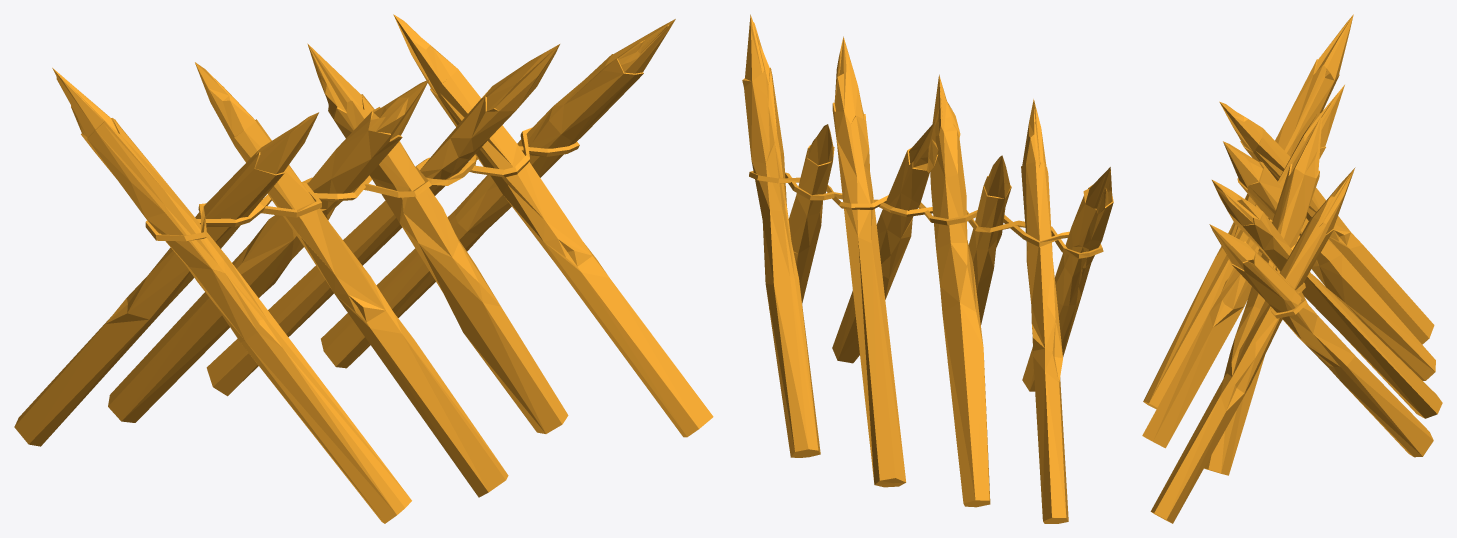
The model's file is SM_Barricade_B.fbx.
3 renders of one model, left to right at view 1: azimuth 30°, elevation 25°; view 2: azimuth 150°, elevation 25°; view 3: azimuth 270°, elevation 25°, orthographic. The views are drawn at different scales.
Visible parts, largest first — view 1: barricade-b; view 2: barricade-b; view 3: barricade-b.
Boxes of the visible parts, <box> form: barricade-b: <box>14,14,713,523</box>; barricade-b: <box>742,14,1113,523</box>; barricade-b: <box>1142,14,1442,523</box>.
Size of the model in its own units: 3.02 by 2.23 by 1.89.
